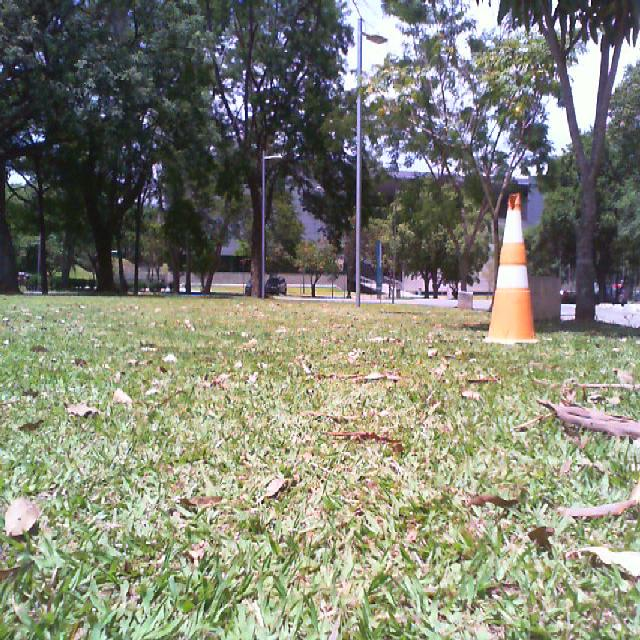cone: (482, 194, 540, 346)
